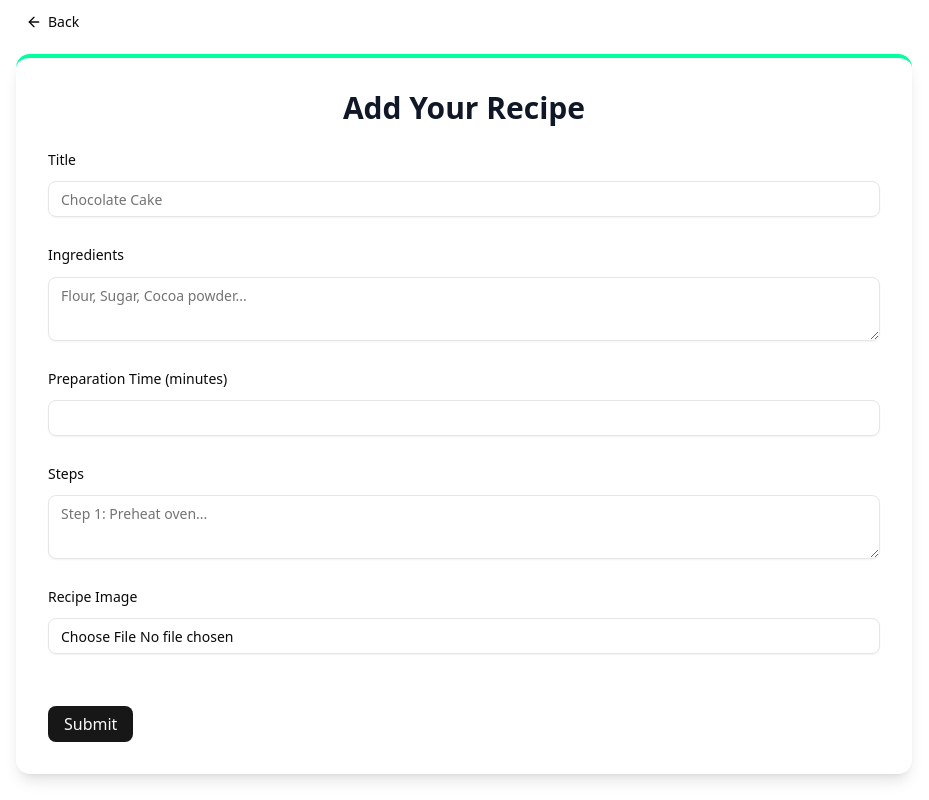
Test: validates preparation time minimum value
Type "0" into the number field labelled "Preparation Time (minutes)".
click(464, 418); type("0")  # box [48, 400, 880, 436]
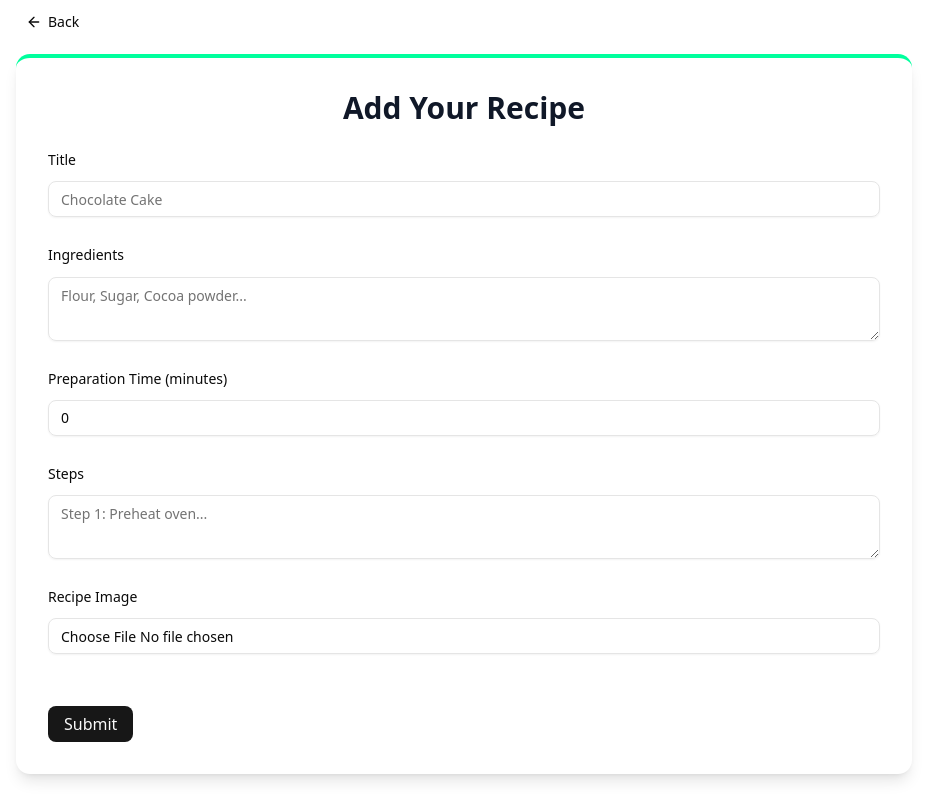
Click the button "Submit".
click(91, 724)  # box [48, 706, 133, 742]
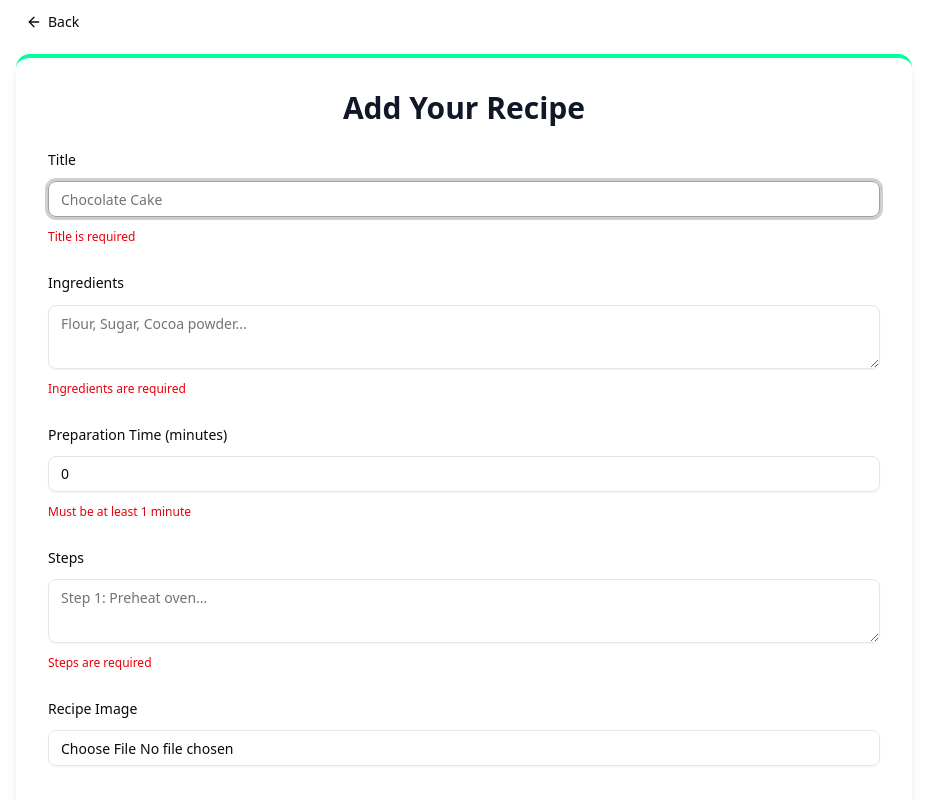
Result: the text "Must be at least 1 minute" is shown at [48, 503, 191, 520]
